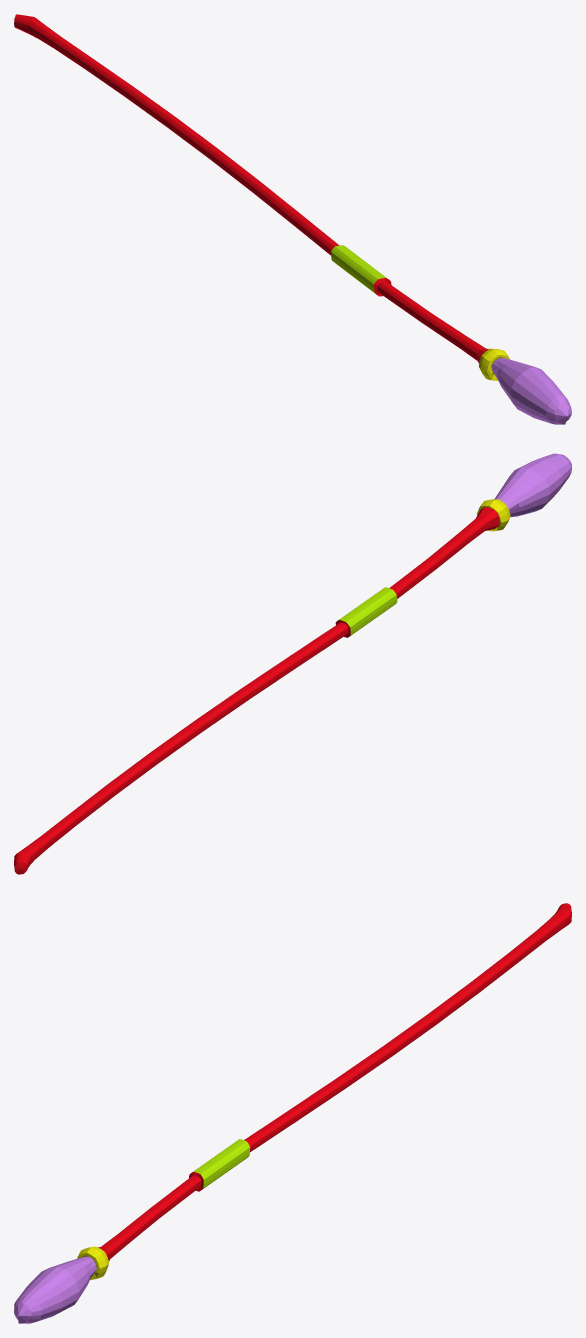
Rendered from Wand.fbx.
3 renders of one model, top to bottom at view 1: azimuth 30°, elevation 25°; view 2: azimuth 150°, elevation 25°; view 3: azimuth 330°, elevation 25°, orthographic.
Parts seen in each view (by area): view 1: Wand; view 2: Wand; view 3: Wand.
Part boxes in pixels (x1,y1,x2,y2): Wand: (14, 14, 571, 424); Wand: (14, 453, 571, 874); Wand: (14, 903, 571, 1323).
Bounding box in the file's own units: 34.67 × 34.66 × 820.
